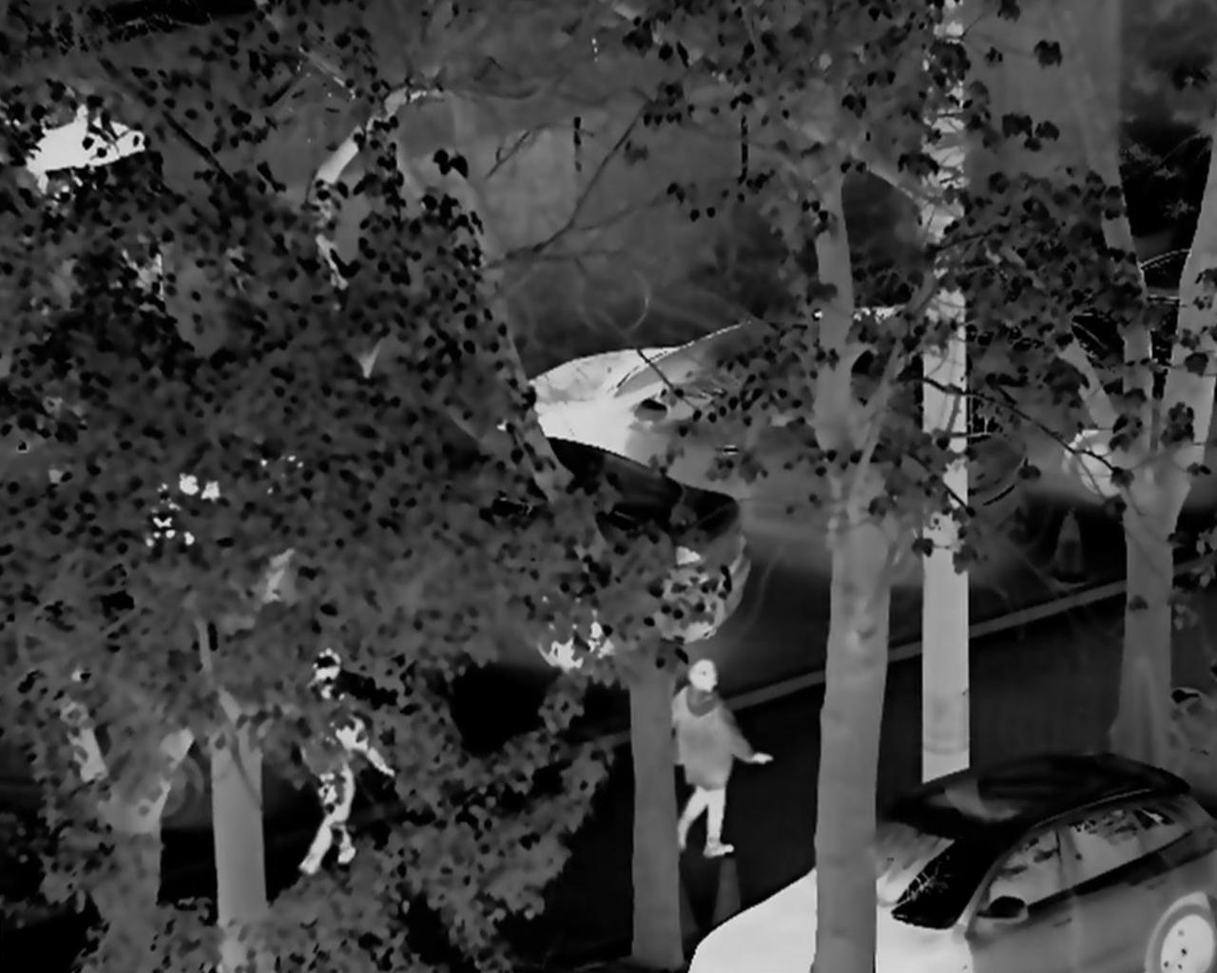person: (670, 643, 769, 880), (293, 655, 389, 880)
